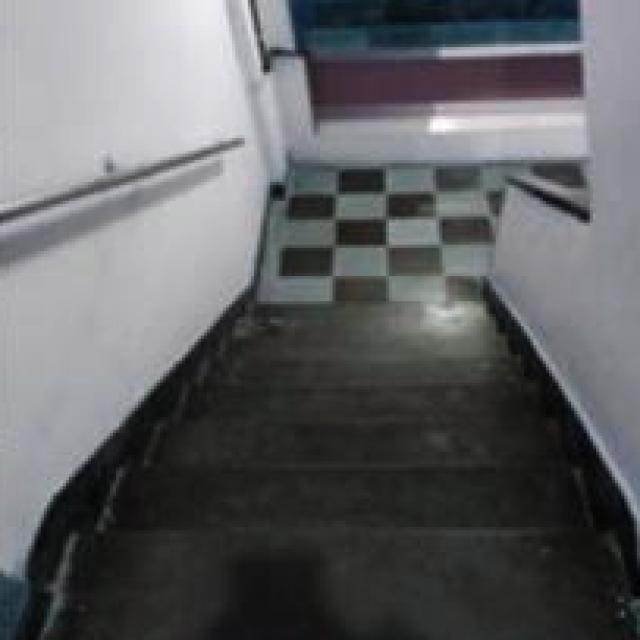downstair: (73, 418, 600, 610)
